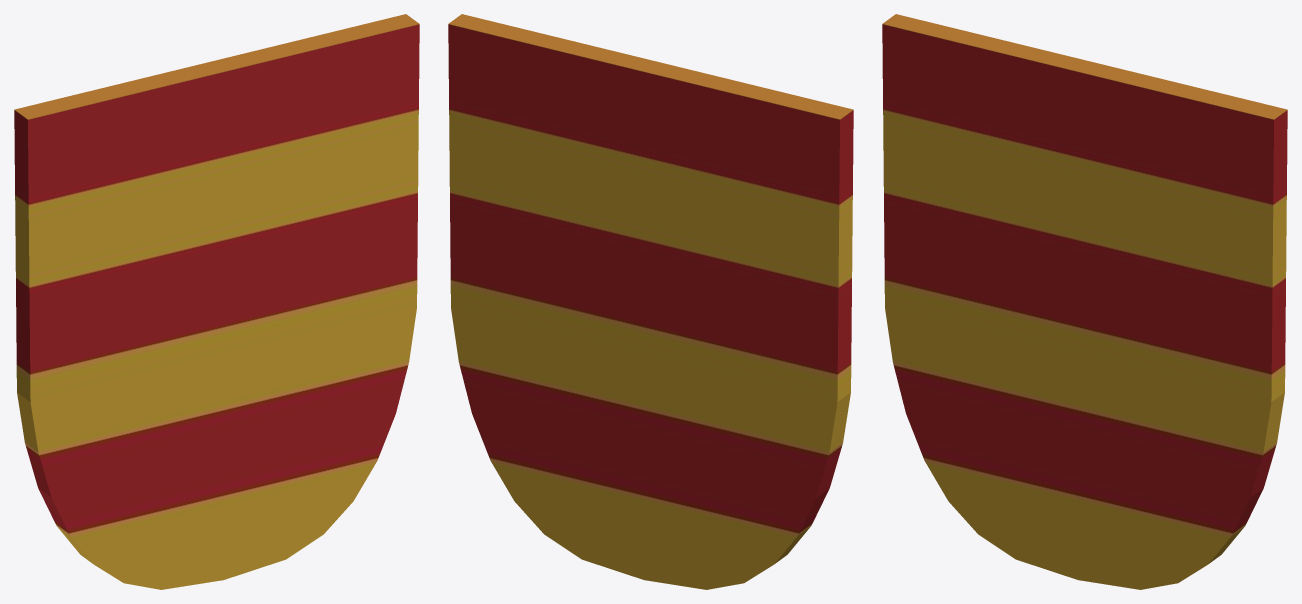
Rendered from stemma-amidei.glb.
3 views of the same model, side by side, from view 1: azimuth 30°, elevation 25°; view 2: azimuth 150°, elevation 25°; view 3: azimuth 330°, elevation 25° (orthographic).
Parts seen in each view (by area): view 1: stemma-amidei; view 2: stemma-amidei; view 3: stemma-amidei.
Boxes of the visible parts, x1,y1,x2,y2 form: stemma-amidei: (14, 14, 419, 589); stemma-amidei: (448, 14, 853, 589); stemma-amidei: (882, 14, 1287, 589).
Bounding box in the file's own units: 0.5 × 0.62 × 0.03.
1 material, 1 textured.
